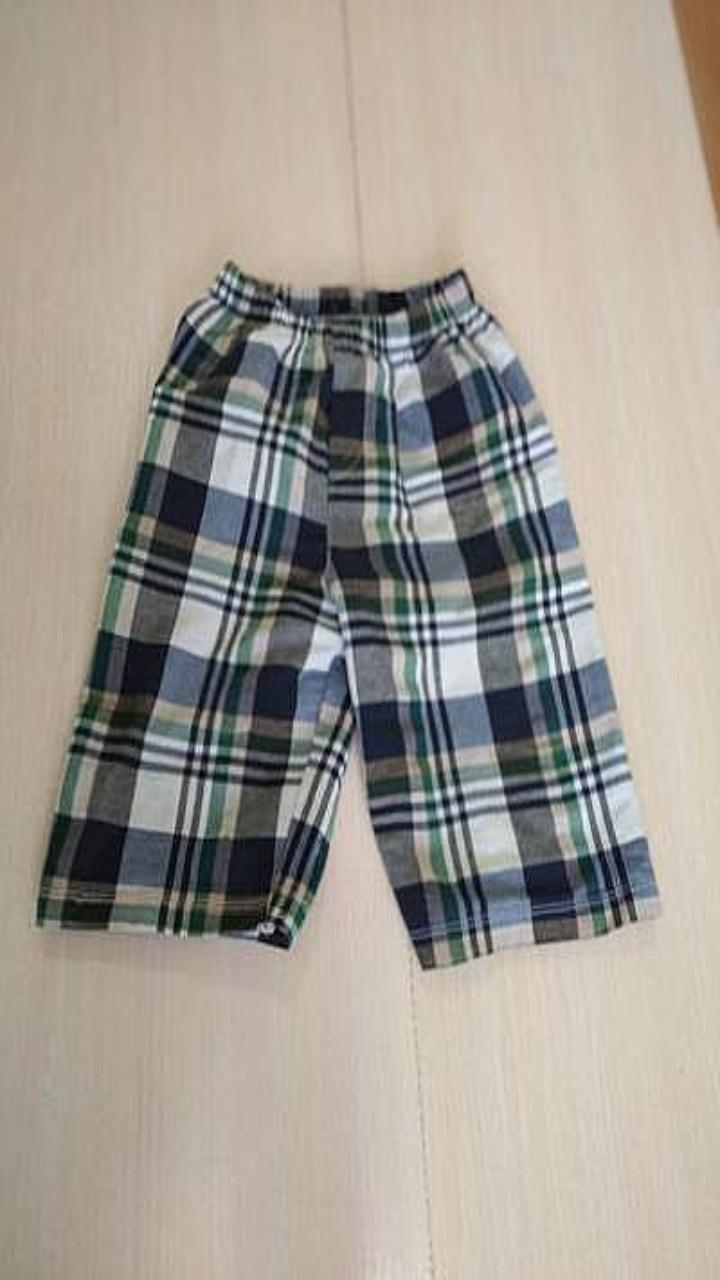Shorts: (35, 261, 659, 968)
